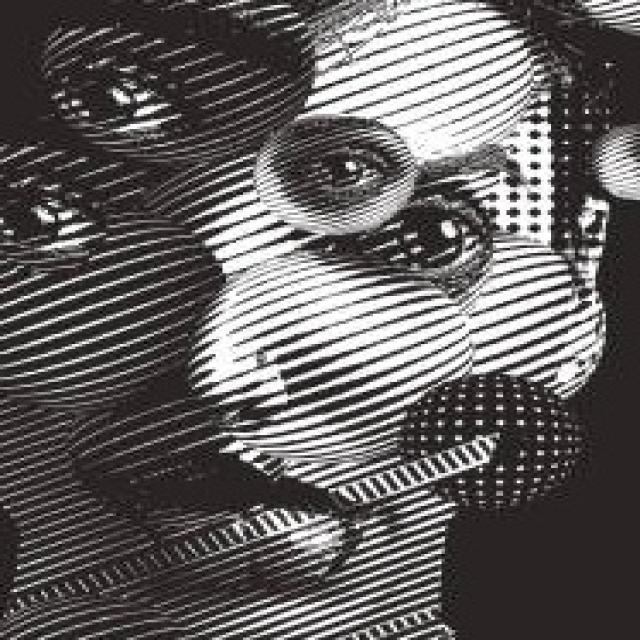Anxiety: (3, 0, 560, 637)
